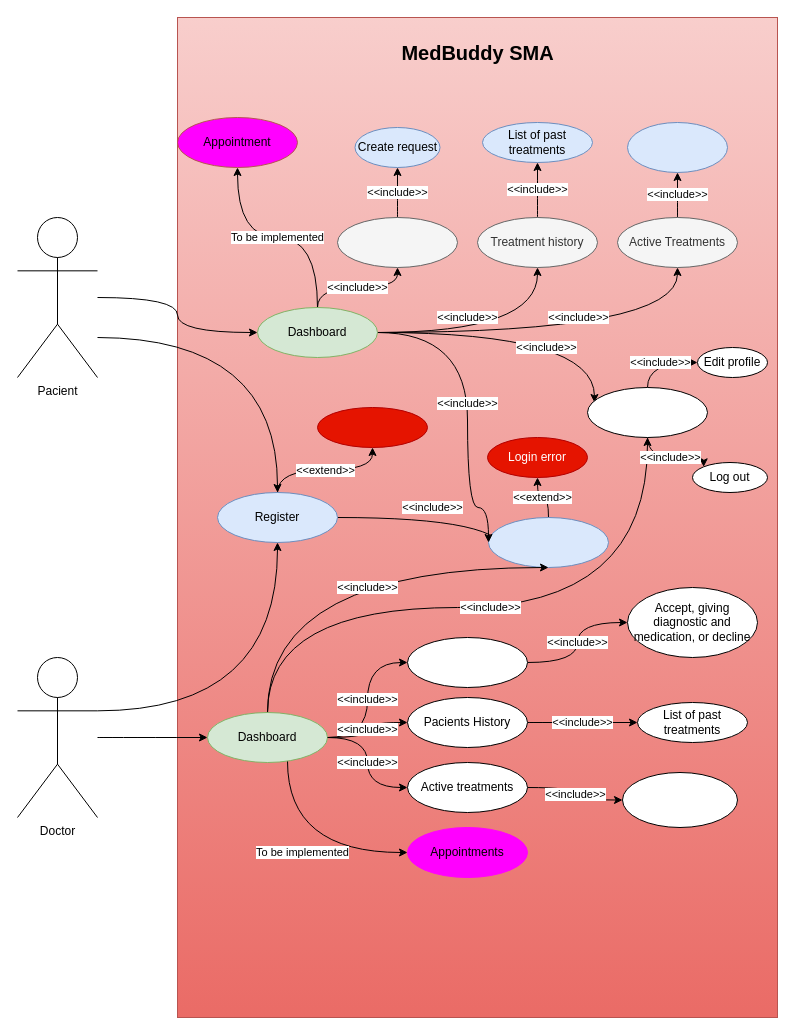
Image size: 795x1035. Some labels were removed from this diagram. The shapes that lost their labels are listed below. From the top down, each one's centre as x and y in pixels, then its label:
At point 677,147: "Chat, reminder and review".
At point 397,242: "Need a Doctor".
At point 372,427: "Registration error".
At point 647,412: "Settings".
At point 548,542: "Login".
At point 467,662: "Treatment requests".
At point 680,800: "Chat, reminder and edit medication".
